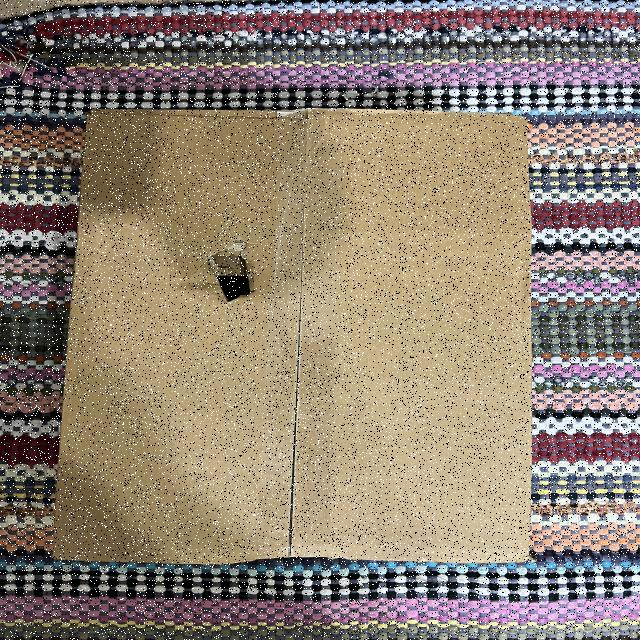damaged: (55, 98, 545, 584), (188, 226, 266, 320)
